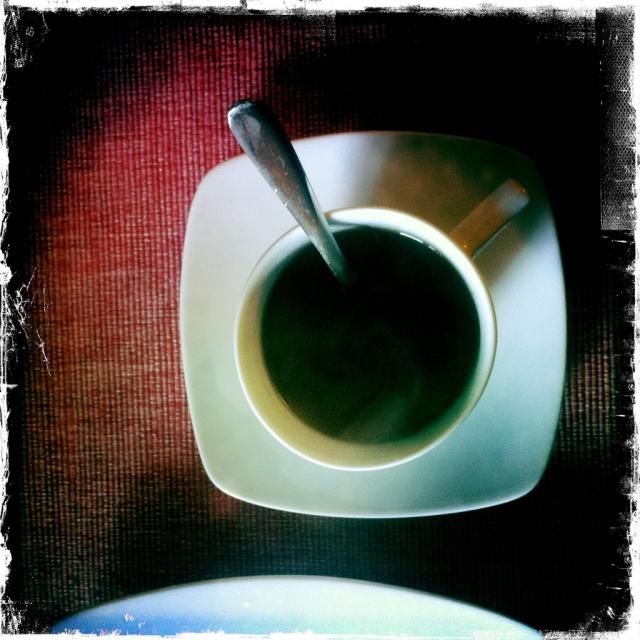Tea: (261, 227, 481, 445)
